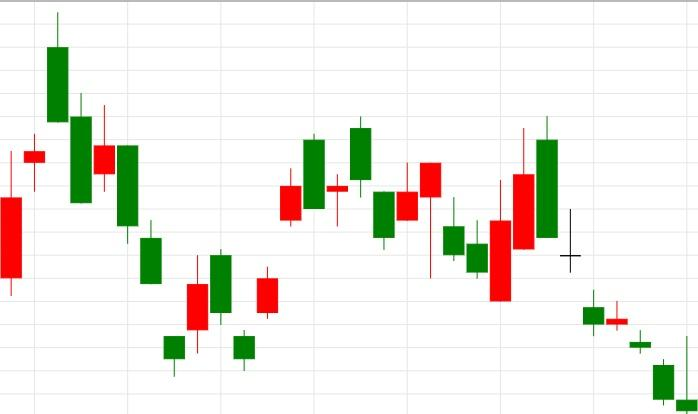bullish_engulfing_rise: (419, 162, 512, 303)
hanging_man_fall: (372, 162, 441, 278)
